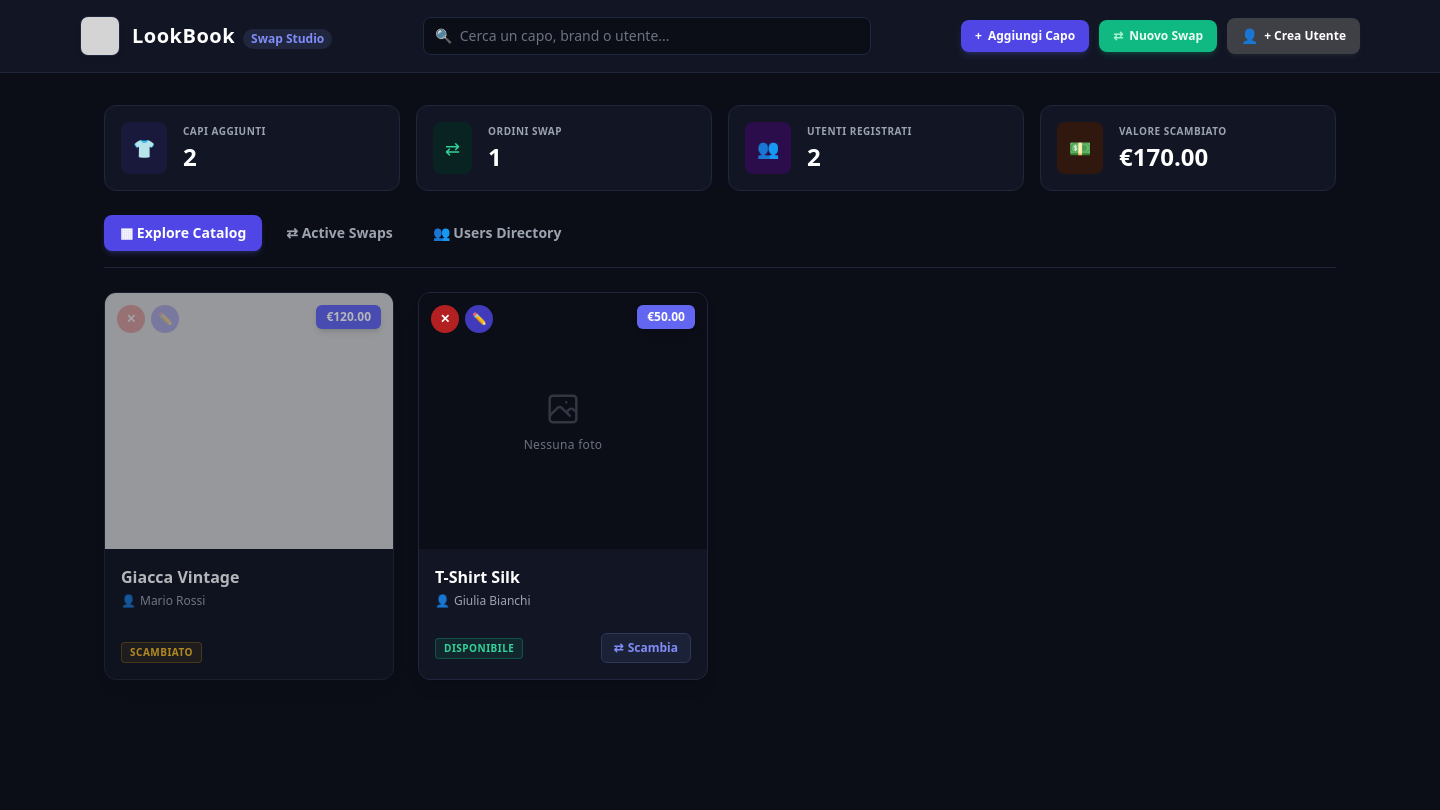
it: Swap Studio - Frontend Integration Tests › Renderizza correttamente l'ordine nella tab Active Swaps
Click the button "⇄ Active Swaps".
click(340, 233)  # box top-left (270, 215), bottom-right (409, 251)
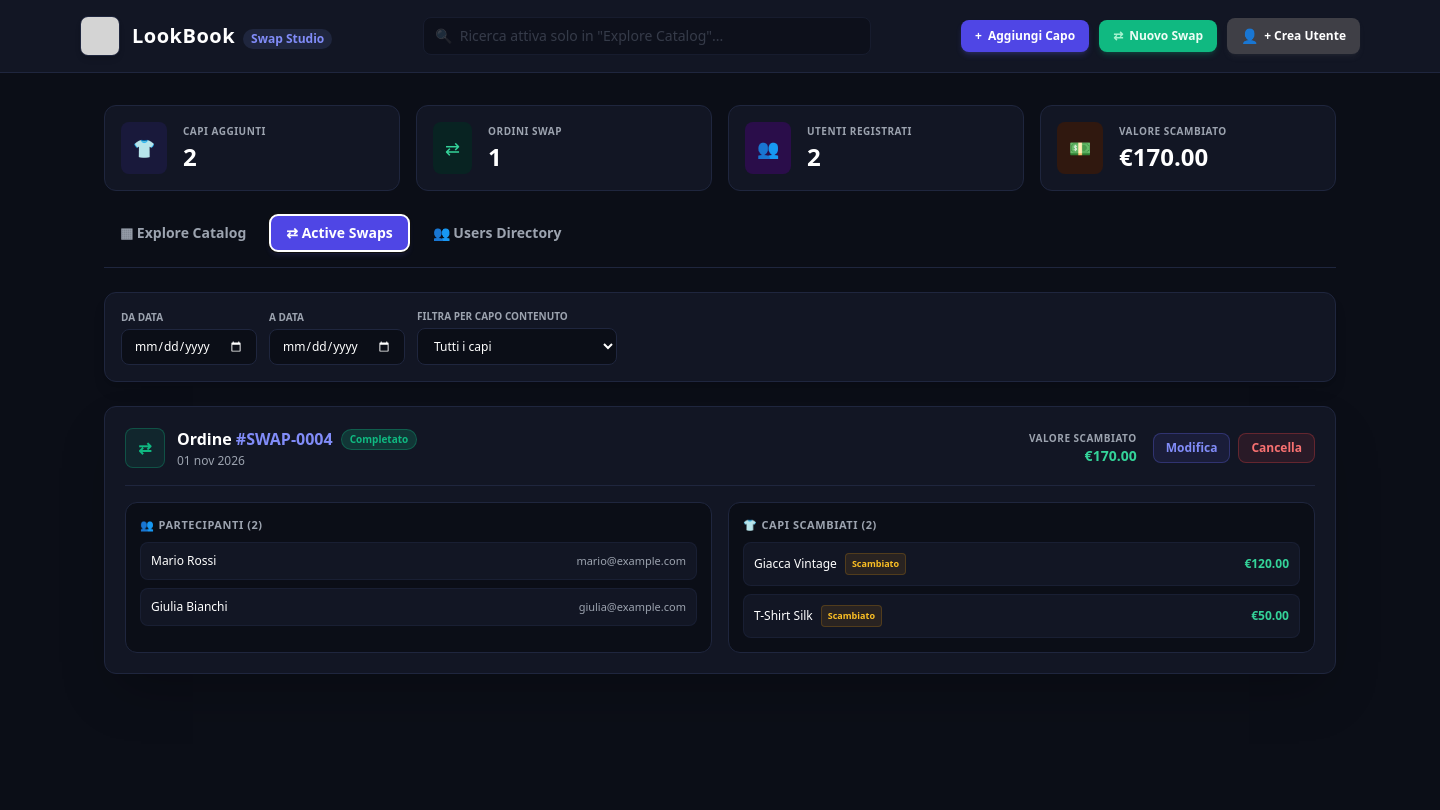
Expected: the text "€170.00" below "UTENTI REGISTRATI" is shown, top-left (1119, 140), bottom-right (1208, 172)
Expected: the text "#SWAP-0004" is shown, top-left (236, 428), bottom-right (333, 450)
